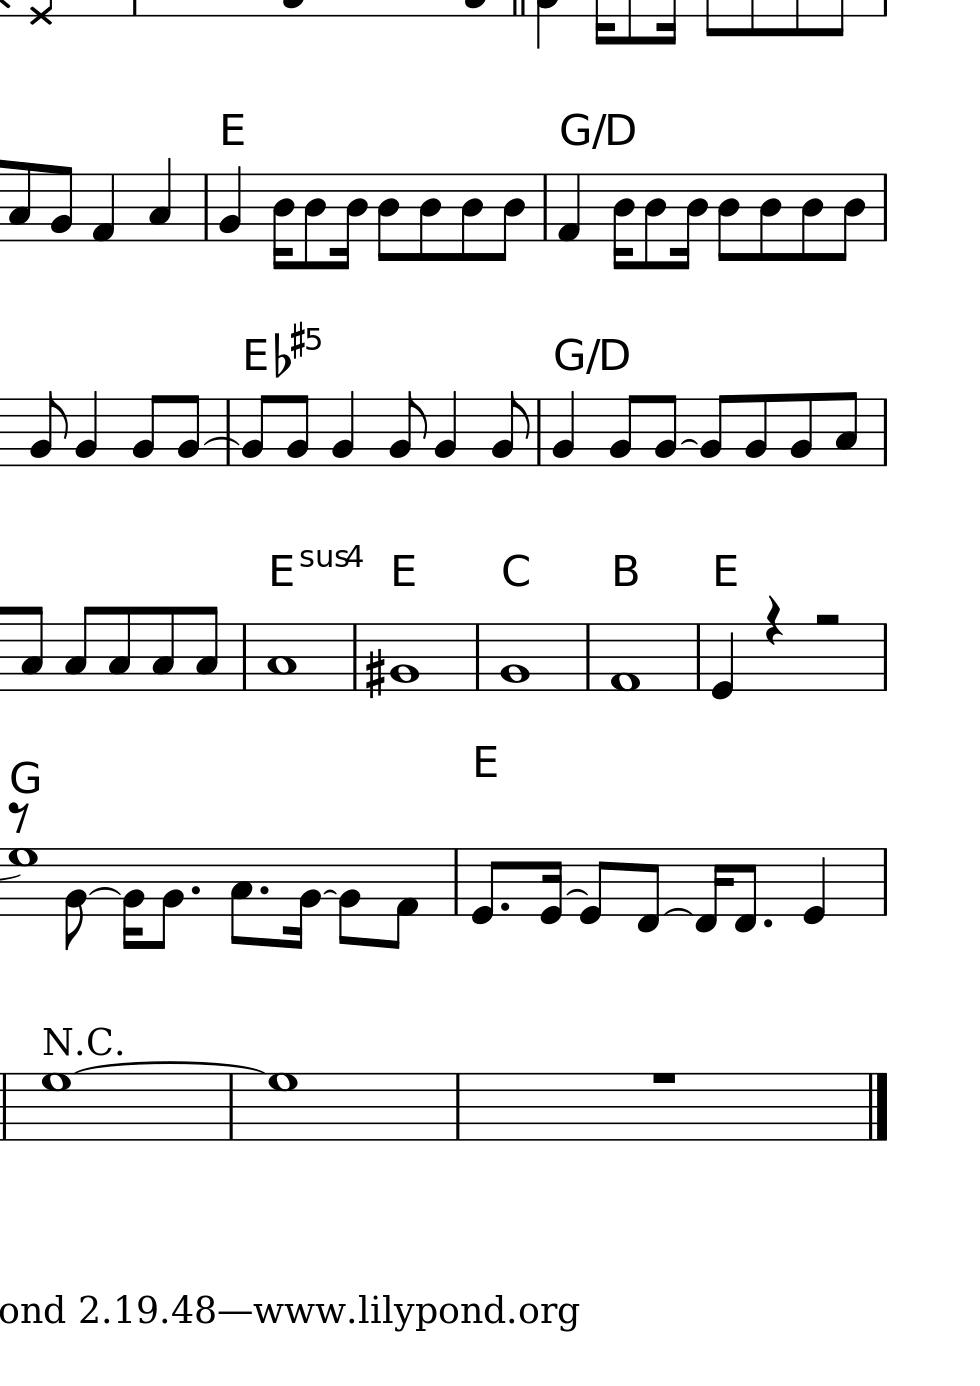16_-1: (693, 846, 729, 935), (734, 847, 758, 934)
16_0: (537, 846, 564, 928)
16_2: (282, 846, 321, 951), (120, 847, 146, 951)
16_4: (670, 171, 708, 273), (330, 172, 368, 273), (641, 172, 666, 273), (269, 172, 294, 273), (610, 172, 634, 273)
1_1: (609, 621, 642, 696)
1_2: (498, 621, 531, 694), (389, 622, 421, 694)
1_3: (266, 620, 296, 694)
1_7: (5, 846, 38, 917), (265, 1072, 298, 1143), (40, 1073, 72, 1142)
4_0: (799, 845, 828, 927), (708, 621, 734, 702)
4_1: (88, 171, 117, 244), (556, 171, 581, 244)
4_2: (329, 389, 356, 468), (432, 389, 459, 468), (73, 389, 100, 468), (216, 164, 242, 242), (549, 389, 575, 467)
4_3: (146, 157, 172, 242)
8_-1: (634, 846, 662, 935)
8_0: (469, 846, 504, 926), (577, 845, 612, 925)
8_1: (388, 845, 419, 952)
8_2: (489, 389, 530, 468), (152, 847, 182, 950), (386, 389, 426, 467), (29, 389, 68, 466), (62, 846, 86, 952), (239, 393, 272, 468), (606, 393, 638, 467), (130, 392, 162, 467), (697, 392, 729, 467), (337, 847, 361, 948), (47, 163, 74, 244), (175, 393, 202, 468), (788, 391, 813, 468), (742, 392, 768, 468), (284, 393, 310, 468), (652, 392, 677, 468)
8_3: (63, 606, 94, 694), (150, 604, 178, 694), (229, 846, 253, 948), (106, 606, 133, 694), (193, 603, 218, 692), (19, 604, 43, 694), (6, 160, 32, 244), (834, 389, 859, 468)
8_4: (492, 172, 526, 264), (836, 173, 867, 264), (715, 172, 741, 265), (301, 172, 326, 273), (416, 172, 442, 264), (458, 172, 484, 265), (756, 172, 782, 264), (798, 172, 823, 264), (375, 172, 400, 264)
Final_barline: (862, 1072, 890, 1141)
Flat: (274, 330, 290, 378)
Rests1: (648, 1069, 680, 1087)
Rests2: (810, 609, 842, 630)
Rests4: (764, 594, 783, 648)
Sharp: (363, 648, 385, 700)
Single_barline: (876, 173, 893, 242), (876, 622, 893, 691), (876, 398, 893, 466), (449, 1073, 466, 1141), (469, 624, 486, 689), (447, 849, 463, 915), (222, 1074, 239, 1140), (690, 622, 706, 691), (237, 624, 252, 690), (580, 624, 596, 690), (198, 174, 214, 240), (538, 174, 553, 241), (531, 399, 546, 466), (347, 624, 362, 690), (877, 848, 892, 915), (1, 1073, 14, 1140)
Slur: (202, 436, 239, 448), (89, 888, 121, 897), (664, 907, 692, 916), (565, 888, 589, 897), (678, 437, 700, 446)
dot: (256, 884, 272, 898), (188, 884, 202, 898), (760, 916, 774, 929), (498, 901, 511, 913)
